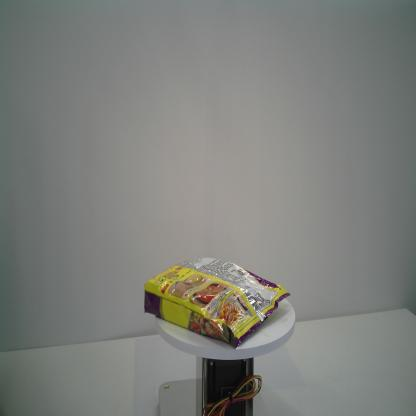Instant Noodles: (143, 254, 292, 352)
